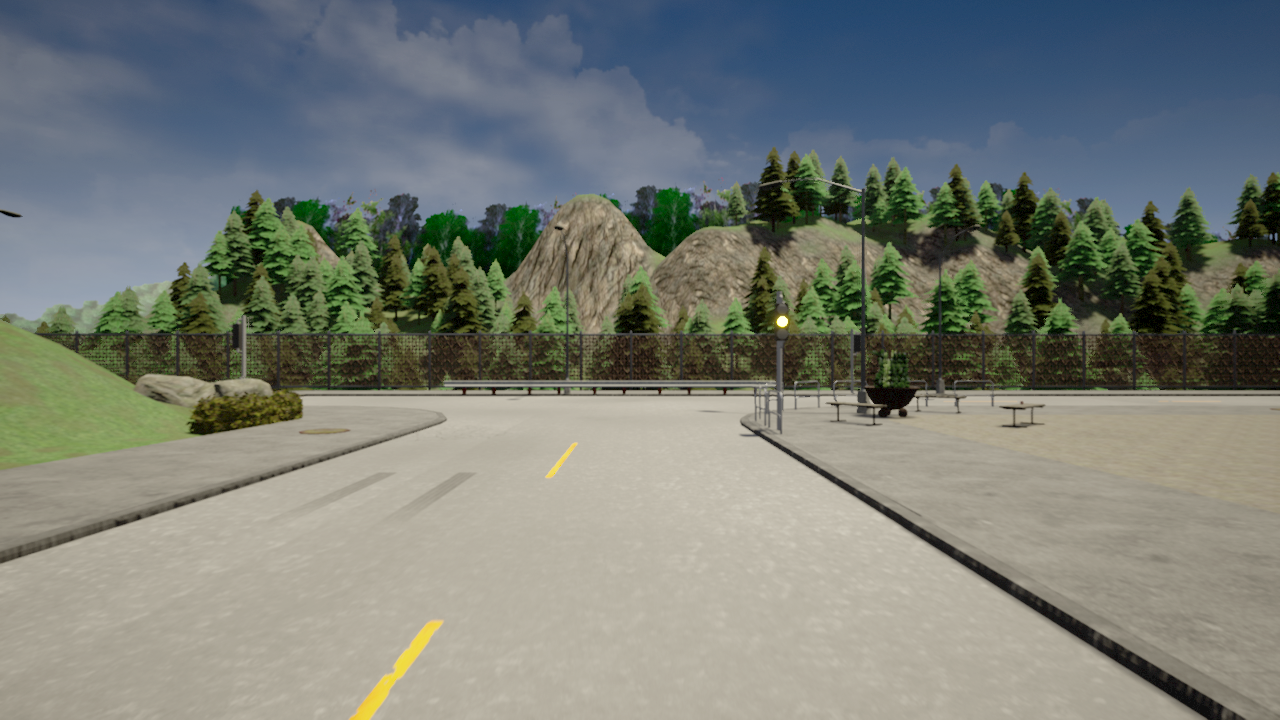yellow: (772, 301, 790, 341)
